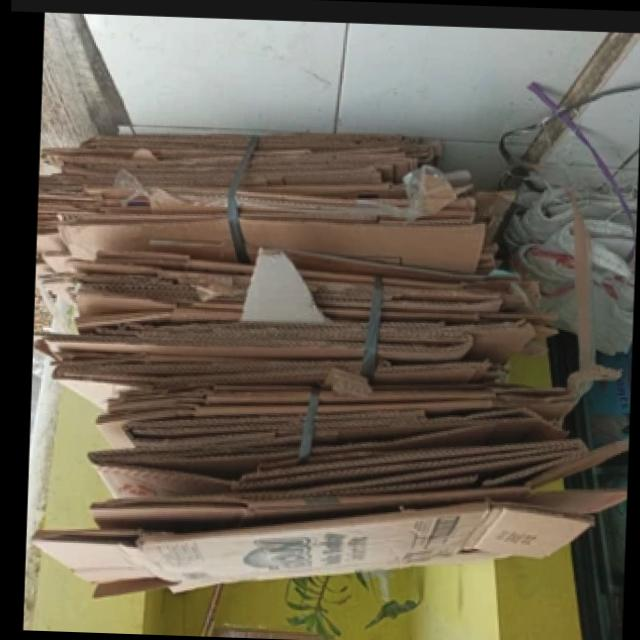Kardus: (24, 123, 639, 617)
